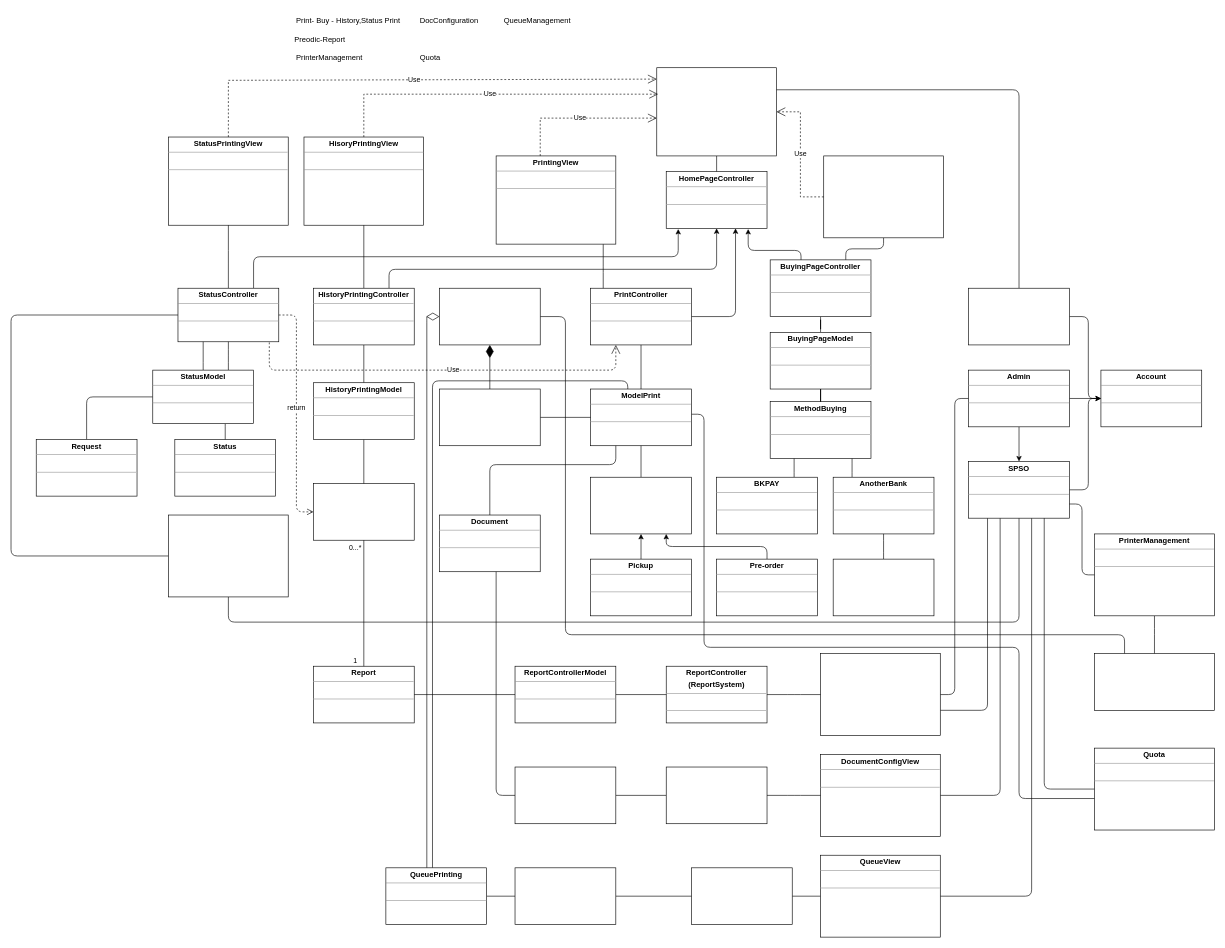
The diagram is 1225 pixels wide and 948 high, and some of its shapes have lost their labels. Here are the shapes that lost their labels. From the top down, the centre of each, then its label:
At (716,111): "HomePageView".
At (883,196): "BuyingPageView".
At (489,316): "Printer".
At (1018,316): "User".
At (489,417): "Properties".
At (363,511): "History".
At (640,505): "RecieveMethod".
At (228,555): "RequestView".
At (883,587): "PaymentSystemProvider".
At (880,694): "ReportView".
At (1154,681): "PrinterMangementController".
At (565,795): "DocConfigModel".
At (716,795): "DocConfigController".
At (565,896): "QueueModel".
At (741,896): "QueueController".
